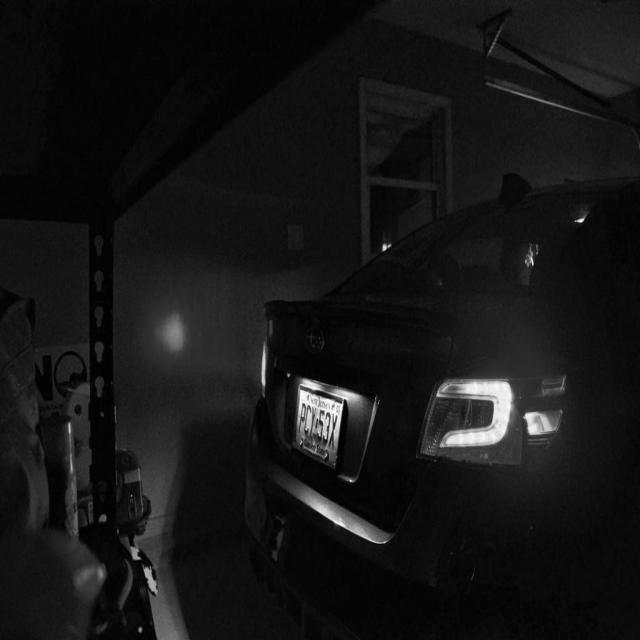plate: (297, 387, 345, 469)
